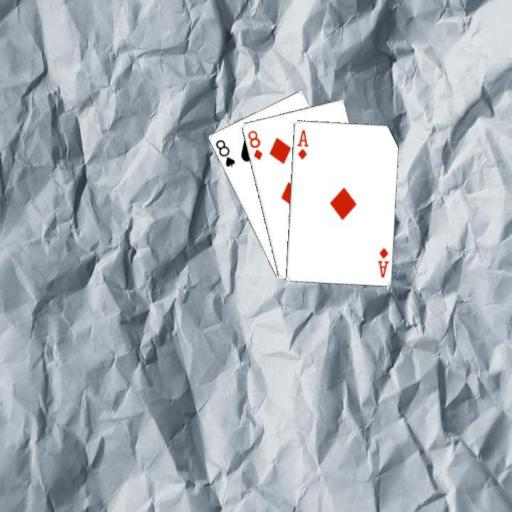8D: (245, 128, 264, 162)
8S: (212, 137, 236, 169)
AD: (374, 245, 390, 279), (294, 127, 309, 161)
